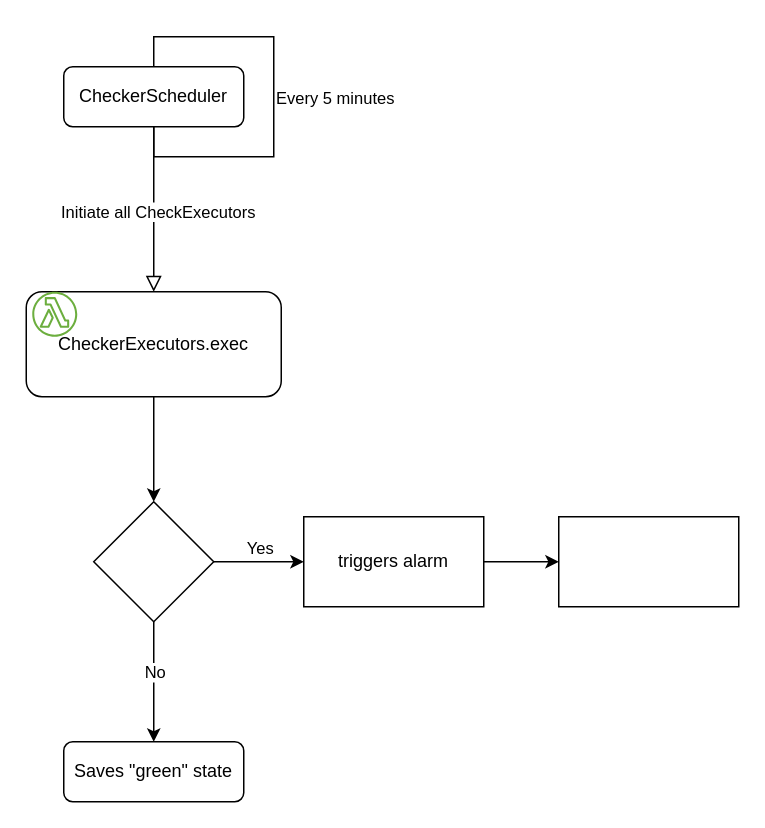
Some shapes in this 765 by 828 pixel diagram are drawn without their labels. The shapes that lost their labels are listed below. From the top down, each one's centre as x and y in pixels, then its label:
(x=153, y=561): Assertion Failed?
(x=648, y=561): Saves "red" state
